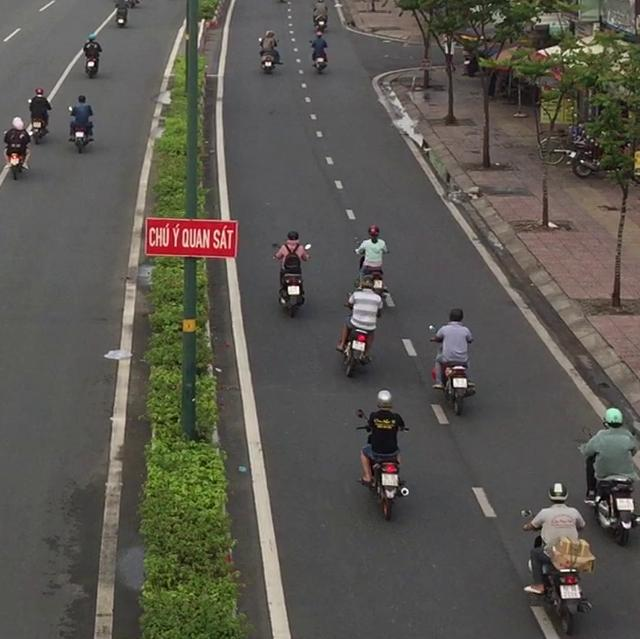Motorcycle: (520, 509, 594, 636), (578, 429, 639, 545), (354, 409, 409, 521), (428, 326, 476, 415), (338, 301, 381, 377), (271, 242, 311, 317), (67, 105, 94, 153), (26, 99, 50, 144), (4, 139, 29, 179), (257, 37, 282, 74), (308, 40, 328, 74)
